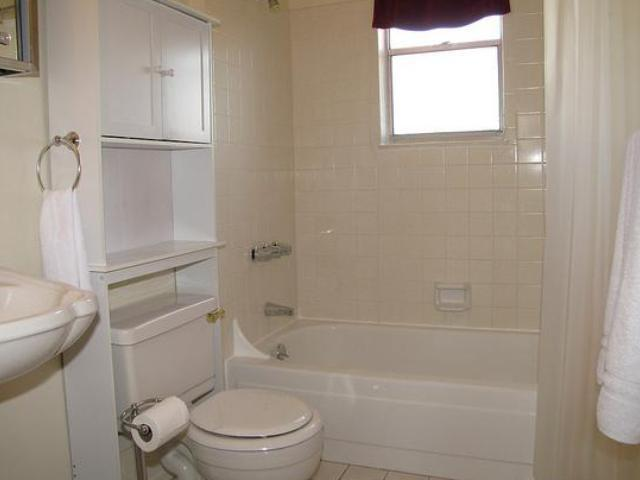Lavamanos: (0, 248, 85, 480)
